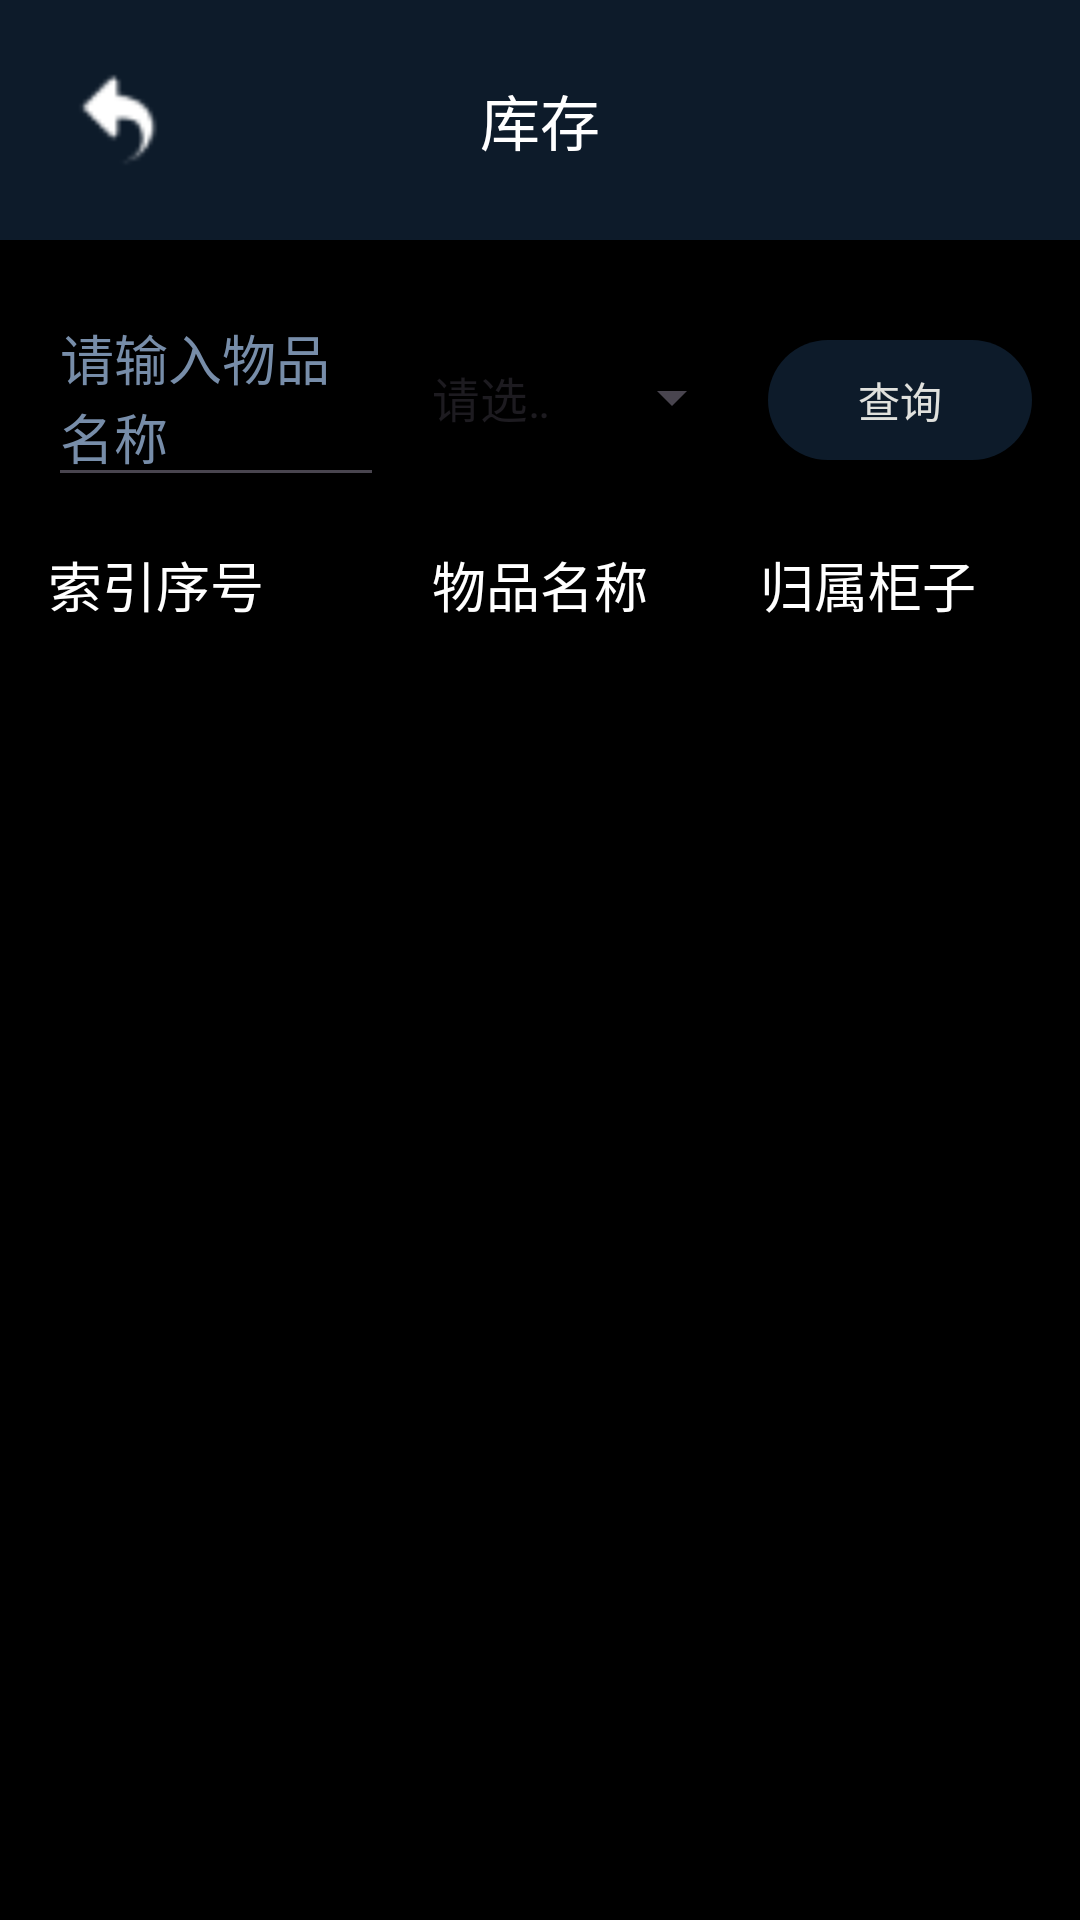

Screen size 1080px×1920px. Icon name, then its center in pixels as [x,y]:
返回: [119,117]
